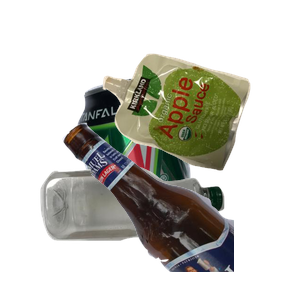glass: (60, 120, 300, 300)
metal: (74, 74, 257, 254)
plastic: (38, 165, 255, 300)
trash: (100, 51, 300, 214)
